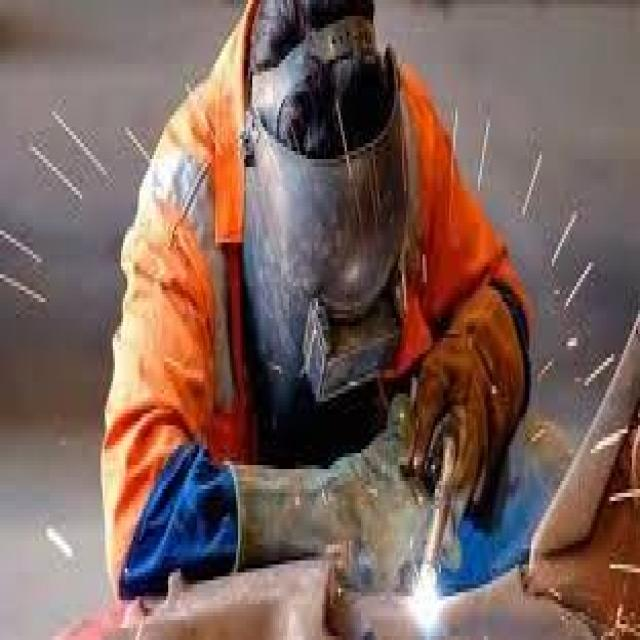Reflective-Jacket: (86, 20, 542, 537)
